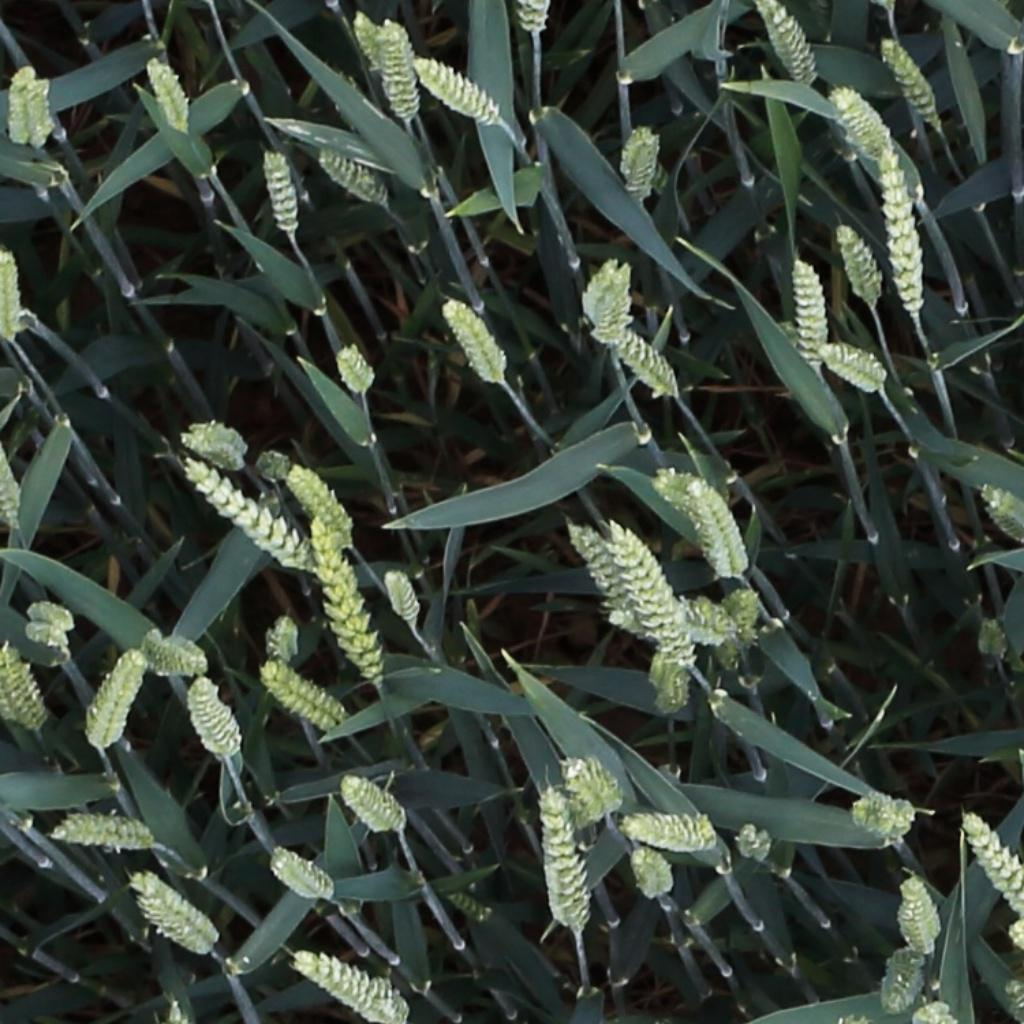0-0: (607, 519, 704, 676), (181, 457, 309, 570), (567, 514, 666, 645), (307, 518, 382, 688), (663, 465, 752, 585), (294, 954, 415, 1024), (130, 868, 225, 953), (882, 143, 927, 318), (959, 811, 1024, 920), (879, 31, 948, 131), (542, 787, 588, 932), (442, 294, 510, 386), (87, 649, 147, 752), (183, 673, 249, 765), (292, 463, 364, 547), (48, 801, 157, 855), (415, 57, 501, 124), (622, 799, 725, 854), (604, 322, 682, 394), (262, 664, 346, 729), (759, 0, 819, 90), (6, 62, 58, 153), (832, 83, 895, 158), (694, 582, 762, 649), (836, 217, 886, 308), (143, 51, 192, 137), (318, 146, 390, 203), (382, 19, 420, 125), (0, 640, 42, 735), (794, 252, 827, 371), (342, 776, 408, 835), (561, 760, 613, 830), (15, 594, 75, 654), (262, 143, 300, 237), (903, 872, 943, 961), (586, 261, 630, 341), (133, 627, 211, 672), (884, 942, 928, 1019), (271, 849, 334, 902), (820, 344, 890, 389), (853, 797, 914, 845), (625, 121, 662, 200), (573, 757, 622, 815), (0, 394, 21, 528), (977, 483, 1024, 542), (383, 563, 423, 632), (632, 842, 675, 906), (350, 6, 391, 73), (184, 422, 248, 460), (335, 338, 375, 398), (644, 652, 681, 710), (270, 608, 299, 674), (0, 243, 17, 344), (733, 825, 773, 863), (976, 612, 1009, 657), (447, 890, 490, 921), (252, 446, 295, 477), (521, 0, 550, 42), (916, 1006, 954, 1024)
